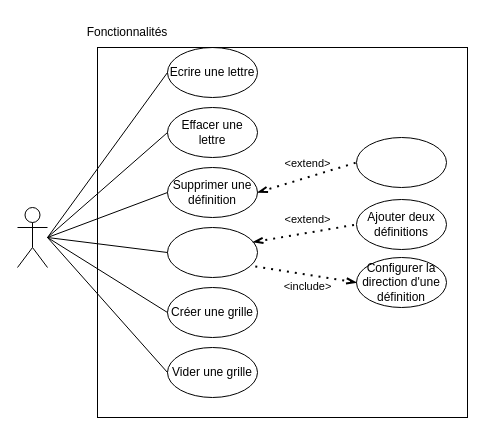
The diagram is 485 pixels wide and 435 high, and some of its shapes have lost their labels. Here are the shapes that lost their labels. From the top down, the centre of each, then its label:
At [401,162]: "Supprimer plusieurs définitions".
At [32,237]: "User".
At [212,252]: "Ajouter une définition".
